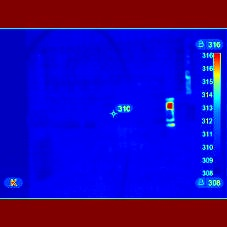Less: (166, 109, 175, 127)
